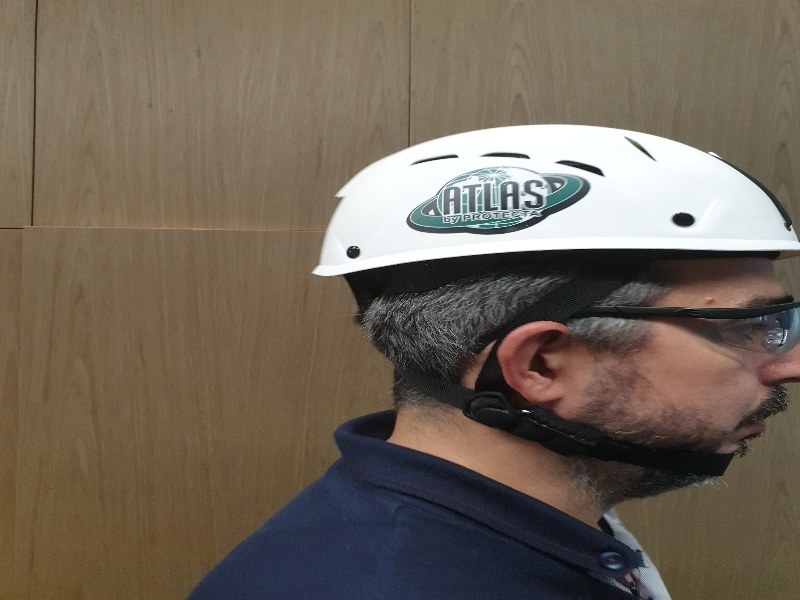Baret: (312, 124, 800, 280)
Gozluk: (569, 300, 800, 352)
